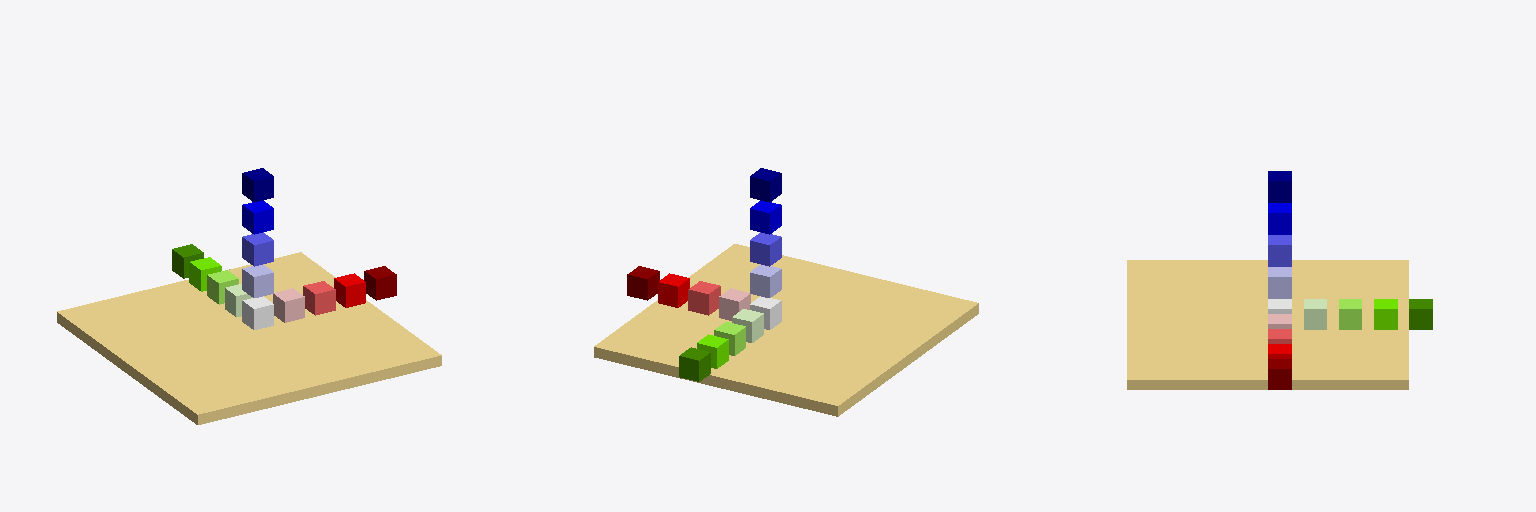
The model's file is colortest.obj.
3 views of the same model, side by side, from view 1: azimuth 30°, elevation 25°; view 2: azimuth 150°, elevation 25°; view 3: azimuth 270°, elevation 25° (orthographic).
Visible parts, largest first — view 1: Mesh14 Model, Mesh10 Group10 Model, Mesh13 Group13 Model, Mesh12 Group12 Model, Mesh9 Group9 Model, Mesh4 Group4 Model, Mesh2 Group2 Model, Mesh8 Group8 Model, Mesh7 Group7 Model, Mesh6 Group6 Model, Mesh1 Group1 Model, Mesh5 Group5 Model (+2 smaller); view 2: Mesh14 Model, Mesh3 Group3 Model, Mesh10 Group10 Model, Mesh13 Group13 Model, Mesh12 Group12 Model, Mesh9 Group9 Model, Mesh4 Group4 Model, Mesh2 Group2 Model, Mesh6 Group6 Model, Mesh7 Group7 Model, Mesh11 Group11 Model, Mesh1 Group1 Model (+2 smaller); view 3: Mesh14 Model, Mesh2 Group2 Model, Mesh4 Group4 Model, Mesh9 Group9 Model, Mesh12 Group12 Model, Mesh1 Group1 Model, Mesh3 Group3 Model, Mesh10 Group10 Model, Mesh5 Group5 Model, Mesh11 Group11 Model.
Boxes of the visible parts, <box> form: Mesh14 Model: <box>57,252,441,424</box>; Mesh10 Group10 Model: <box>364,266,396,300</box>; Mesh13 Group13 Model: <box>303,281,335,315</box>; Mesh12 Group12 Model: <box>242,168,273,202</box>; Mesh9 Group9 Model: <box>242,232,273,266</box>; Mesh4 Group4 Model: <box>242,264,273,297</box>; Mesh2 Group2 Model: <box>242,200,273,234</box>; Mesh8 Group8 Model: <box>242,296,273,329</box>; Mesh7 Group7 Model: <box>273,288,304,322</box>; Mesh6 Group6 Model: <box>334,273,365,307</box>; Mesh1 Group1 Model: <box>189,257,221,291</box>; Mesh5 Group5 Model: <box>207,270,238,304</box>; Mesh14 Model: <box>594,244,978,416</box>; Mesh3 Group3 Model: <box>679,347,710,381</box>; Mesh10 Group10 Model: <box>627,266,659,300</box>; Mesh13 Group13 Model: <box>688,281,720,315</box>; Mesh12 Group12 Model: <box>750,168,781,202</box>; Mesh9 Group9 Model: <box>750,232,781,266</box>; Mesh4 Group4 Model: <box>750,264,781,297</box>; Mesh2 Group2 Model: <box>750,200,781,234</box>; Mesh6 Group6 Model: <box>658,273,689,307</box>; Mesh7 Group7 Model: <box>719,288,750,320</box>; Mesh11 Group11 Model: <box>732,309,763,342</box>; Mesh1 Group1 Model: <box>697,334,728,368</box>; Mesh14 Model: <box>1127,260,1408,389</box>; Mesh2 Group2 Model: <box>1268,203,1291,234</box>; Mesh4 Group4 Model: <box>1268,267,1291,298</box>; Mesh9 Group9 Model: <box>1268,235,1291,266</box>; Mesh12 Group12 Model: <box>1268,171,1291,202</box>; Mesh1 Group1 Model: <box>1374,299,1397,329</box>; Mesh3 Group3 Model: <box>1409,299,1432,329</box>; Mesh10 Group10 Model: <box>1268,359,1291,389</box>; Mesh5 Group5 Model: <box>1339,299,1361,329</box>; Mesh11 Group11 Model: <box>1304,299,1326,329</box>.
Size of the model in its own units: 159 by 91 by 156.